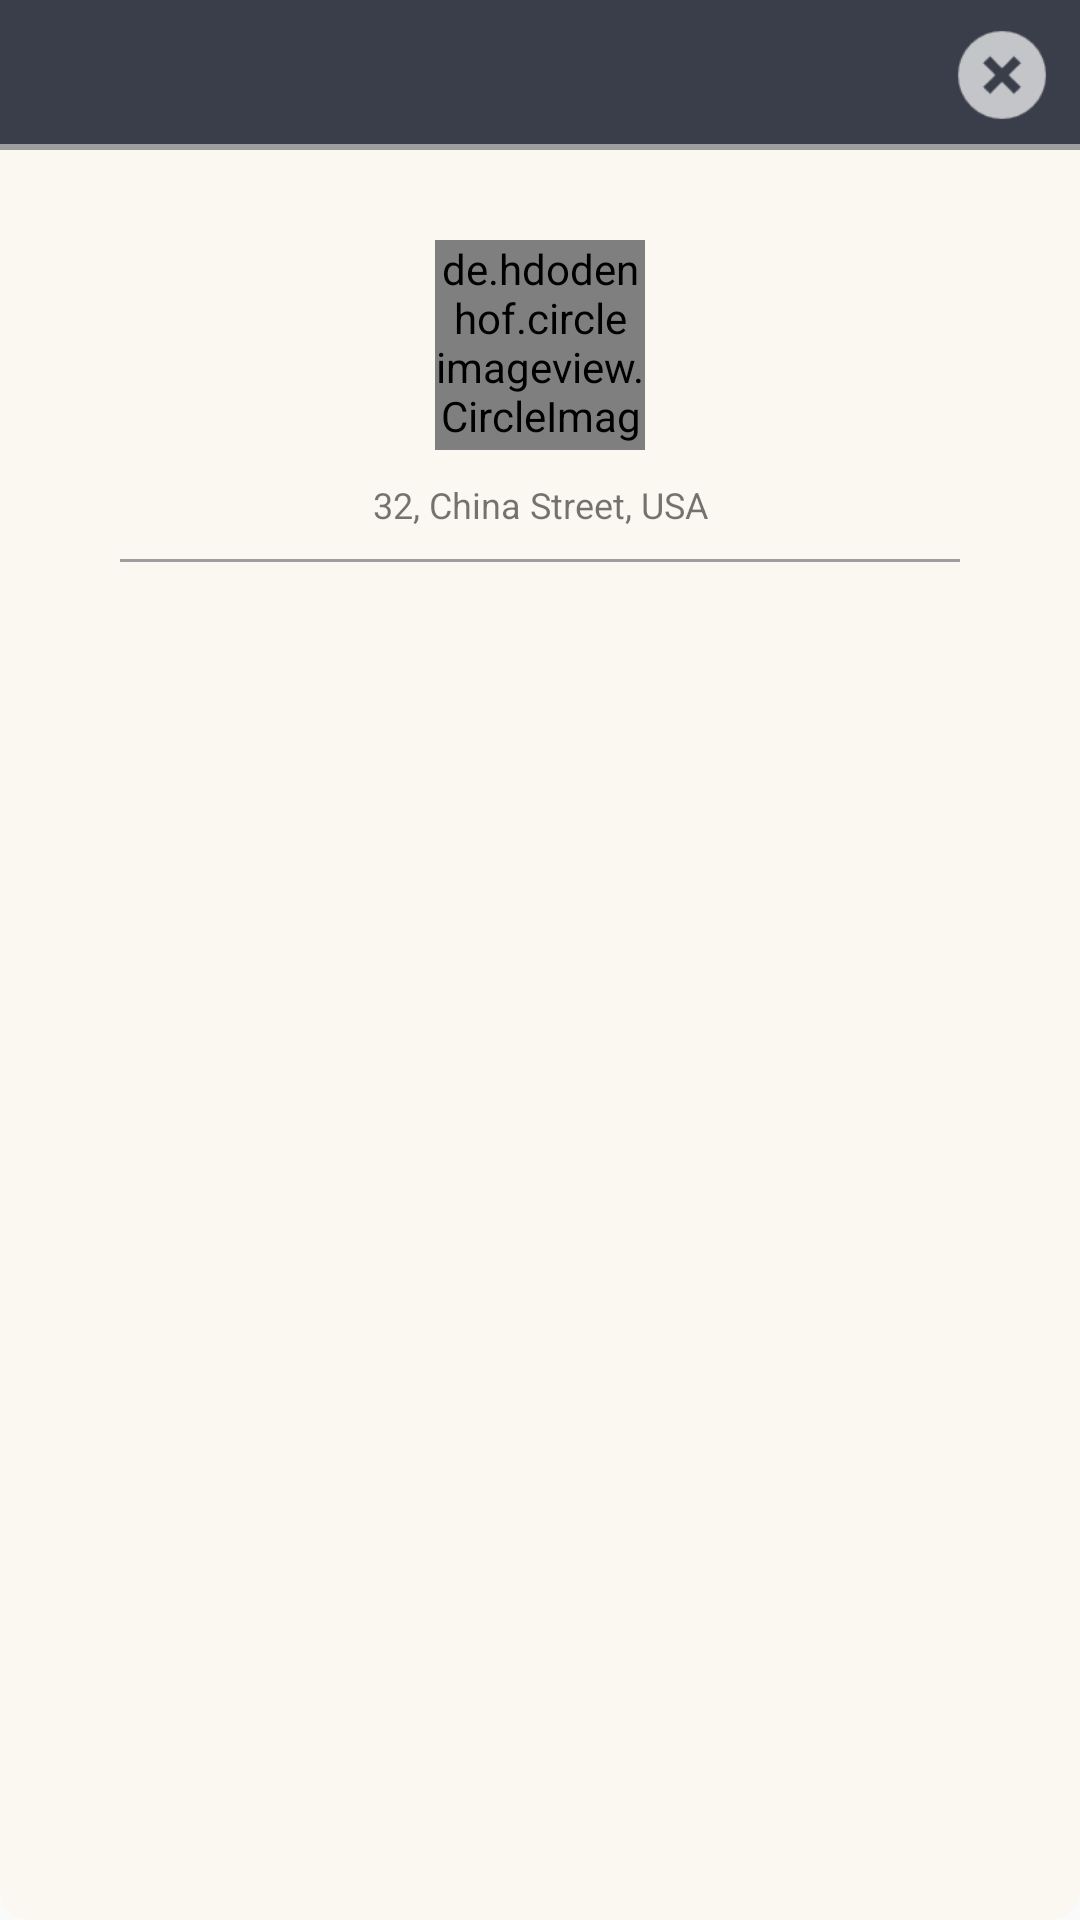

Icons on this 1080 x 1920 Android screen, each with the point to tap as (x=x, y=y):
cross: (x=1002, y=75)
